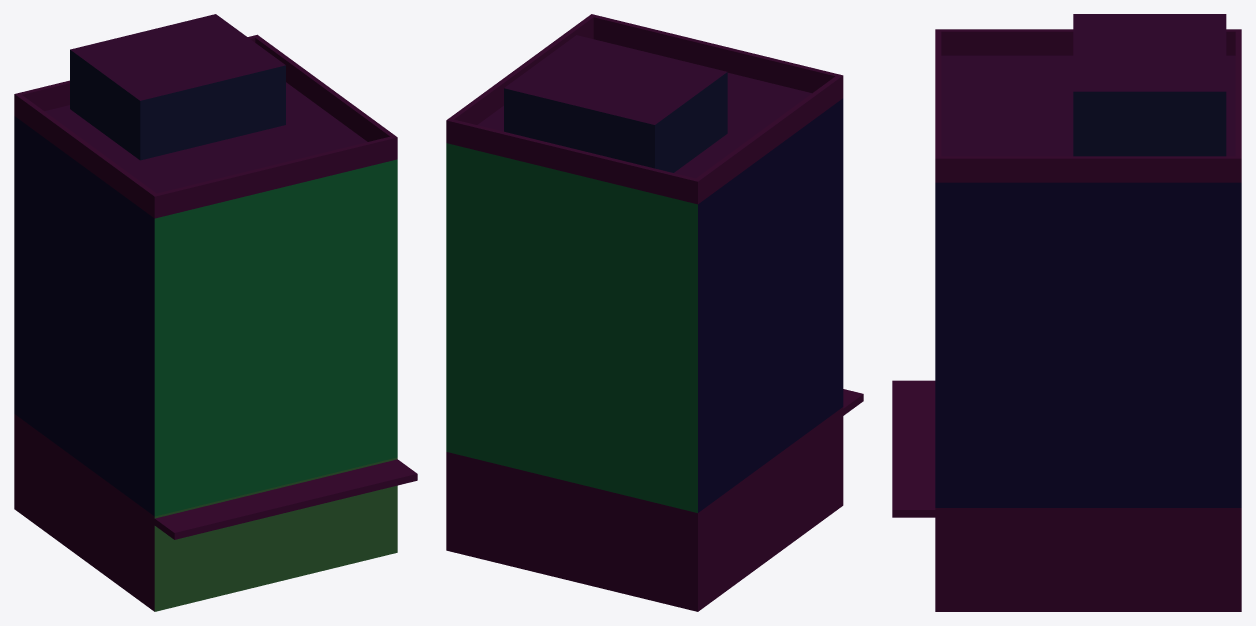
The model's file is walkup_c.lod2.glb.
The picture shows the model from 3 angles, left to right: view 1: azimuth 30°, elevation 25°; view 2: azimuth 150°, elevation 25°; view 3: azimuth 270°, elevation 25°; orthographic projection. The views are drawn at different scales.
Visible parts, largest first — view 1: walkup_c.lod2; view 2: walkup_c.lod2; view 3: walkup_c.lod2.
Boxes of the visible parts, x1,y1,x2,y2 form: walkup_c.lod2: (14,14,417,611); walkup_c.lod2: (446,14,863,611); walkup_c.lod2: (892,14,1241,611).
Size of the model in its own units: 12.8 by 22.8 by 14.6.
